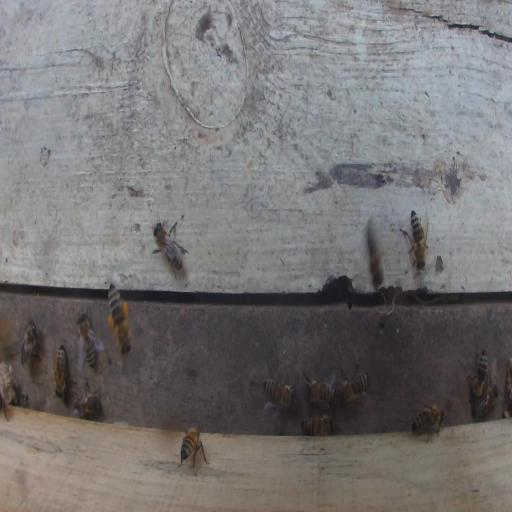bee: (106, 279, 134, 358), (152, 220, 188, 275), (398, 208, 429, 270), (335, 362, 369, 411), (178, 424, 209, 477), (411, 403, 446, 444), (366, 217, 384, 287), (77, 311, 97, 372), (304, 370, 336, 406), (262, 377, 297, 409), (467, 347, 488, 399), (20, 318, 40, 366), (76, 377, 100, 417), (475, 383, 498, 420), (54, 344, 67, 400), (301, 414, 334, 436)
